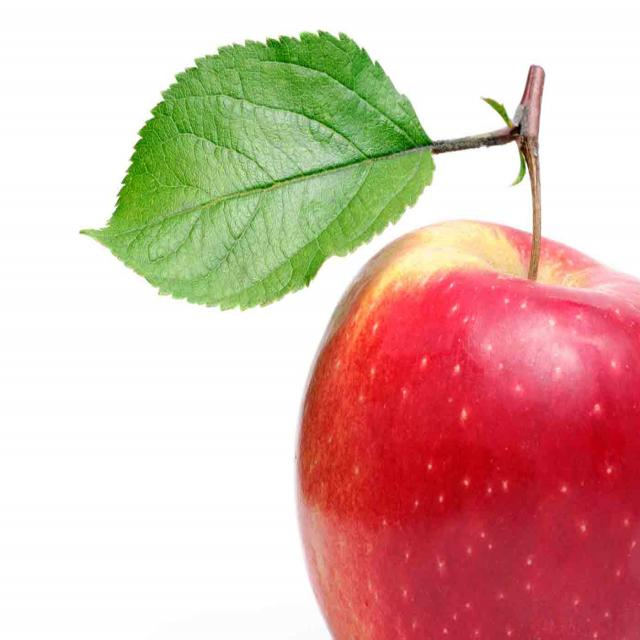apple: (291, 202, 640, 640)
